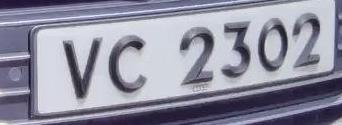0: (252, 9, 291, 79)
2: (170, 19, 222, 92), (288, 7, 324, 71)
3: (216, 13, 259, 85)
C: (103, 27, 156, 102)
V: (55, 35, 109, 104)
